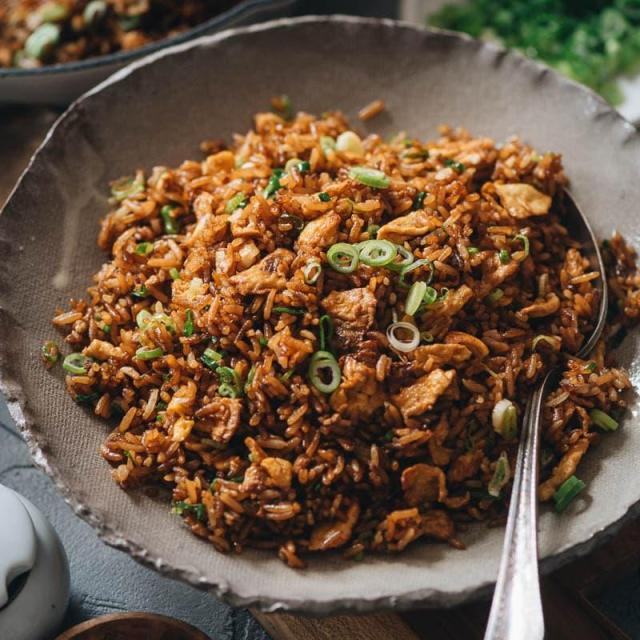Nasi Goreng: (42, 101, 626, 569)
